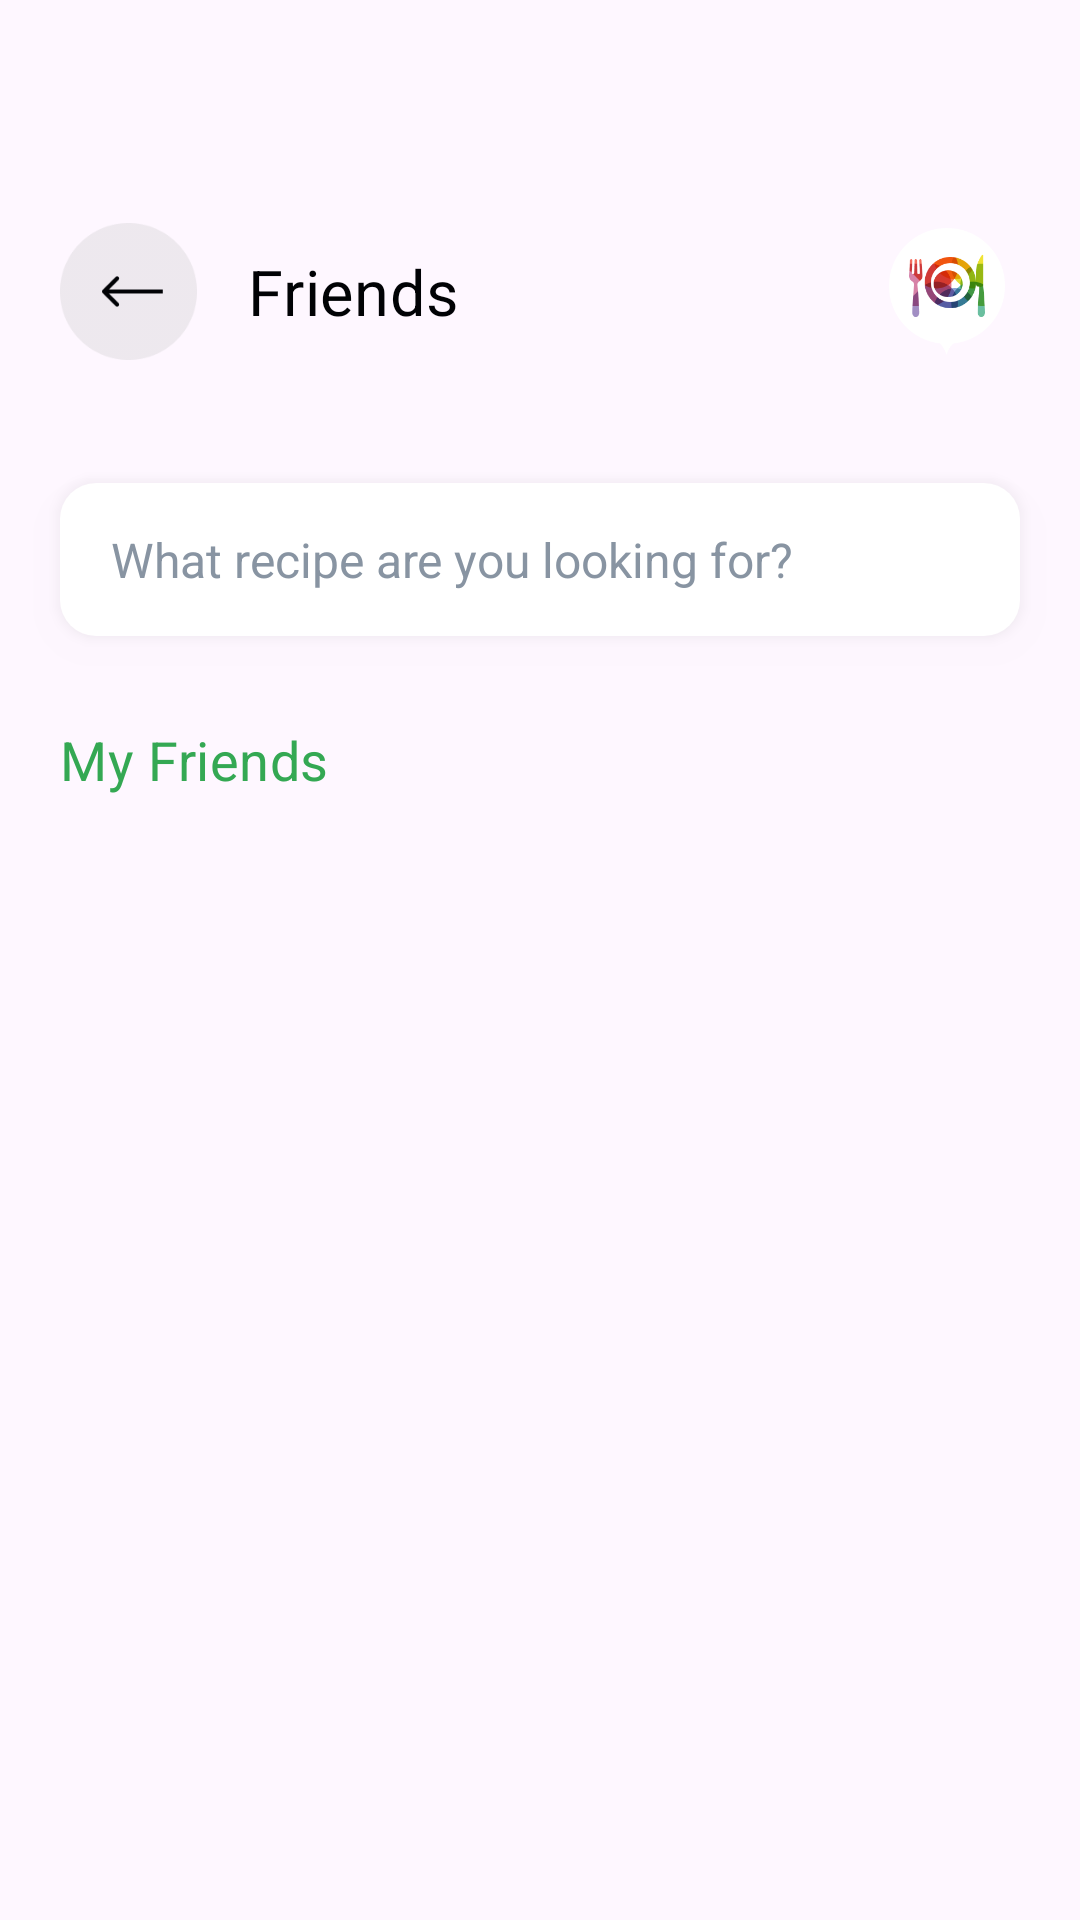

Icon bounding boxes for this 1080w x 1920h phone screenshot, format bbox=(x1, y1, x2, y2):
back: bbox=(60, 223, 197, 360)
